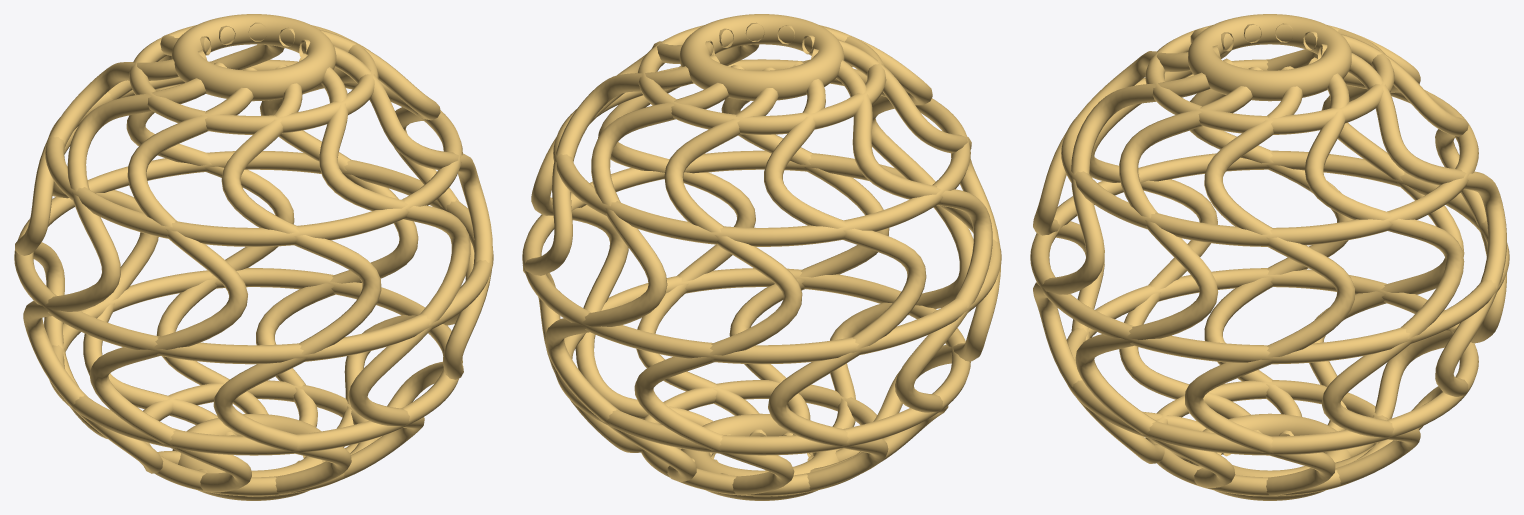
Rendered from spacer-18-gold.glb.
The picture shows the model from 3 angles, left to right: view 1: azimuth 30°, elevation 25°; view 2: azimuth 150°, elevation 25°; view 3: azimuth 270°, elevation 25°; orthographic projection.
Parts seen in each view (by area): view 1: Wire detail.076, Wire detail.071, Wire detail.077, Wire detail.070, Wire detail.072, Wire detail.075, Wire detail.069, Spacer with through bore.037, Wire detail.073, Wire detail.066, Wire detail.068, Wire detail.065 (+5 smaller); view 2: Wire detail.076, Wire detail.067, Wire detail.068, Wire detail.077, Wire detail.066, Wire detail.075, Wire detail.069, Spacer with through bore.037, Wire detail.073, Wire detail.071, Wire detail.065, Wire detail.070 (+5 smaller); view 3: Wire detail.076, Wire detail.064, Wire detail.077, Wire detail.073, Wire detail.065, Wire detail.075, Wire detail.072, Spacer with through bore.037, Wire detail.066, Wire detail.067, Wire detail.070, Wire detail.069 (+5 smaller).
Part boxes in pixels (x1=…): Wire detail.076: x1=14, y1=151, x2=493, y2=364; Wire detail.071: x1=213, y1=64, x2=381, y2=496; Wire detail.077: x1=49, y1=268, x2=462, y2=455; Wire detail.070: x1=89, y1=68, x2=256, y2=492; Wire detail.072: x1=299, y1=53, x2=470, y2=479; Wire detail.075: x1=45, y1=59, x2=462, y2=246; Wire detail.069: x1=23, y1=62, x2=226, y2=473; Spacer with through bore.037: x1=171, y1=14, x2=336, y2=101; Wire detail.073: x1=296, y1=39, x2=492, y2=462; Wire detail.066: x1=126, y1=25, x2=294, y2=414; Wire detail.068: x1=15, y1=50, x2=207, y2=438; Wire detail.065: x1=248, y1=22, x2=418, y2=427; Wire detail.076: x1=522, y1=150, x2=1001, y2=364; Wire detail.067: x1=634, y1=67, x2=802, y2=494; Wire detail.068: x1=764, y1=61, x2=926, y2=496; Wire detail.077: x1=554, y1=268, x2=970, y2=455; Wire detail.066: x1=545, y1=65, x2=744, y2=481; Wire detail.075: x1=553, y1=59, x2=970, y2=246; Wire detail.069: x1=810, y1=48, x2=992, y2=472; Spacer with through bore.037: x1=679, y1=14, x2=844, y2=100; Wire detail.073: x1=598, y1=28, x2=766, y2=436; Wire detail.071: x1=777, y1=25, x2=973, y2=457; Wire detail.065: x1=522, y1=54, x2=719, y2=459; Wire detail.070: x1=802, y1=35, x2=1000, y2=461; Wire detail.076: x1=1030, y1=150, x2=1509, y2=364; Wire detail.064: x1=1185, y1=66, x2=1354, y2=496; Wire detail.077: x1=1067, y1=268, x2=1478, y2=455; Wire detail.073: x1=1075, y1=67, x2=1262, y2=487; Wire detail.065: x1=1305, y1=57, x2=1464, y2=486; Wire detail.075: x1=1061, y1=59, x2=1478, y2=246; Wire detail.072: x1=1033, y1=58, x2=1234, y2=463; Spacer with through bore.037: x1=1188, y1=14, x2=1351, y2=101; Wire detail.066: x1=1318, y1=44, x2=1506, y2=468; Wire detail.067: x1=1303, y1=31, x2=1506, y2=456; Wire detail.070: x1=1089, y1=28, x2=1262, y2=433; Wire detail.069: x1=1190, y1=24, x2=1353, y2=435.
Size of the model in its own units: 0.005 by 0.00492 by 0.005.
